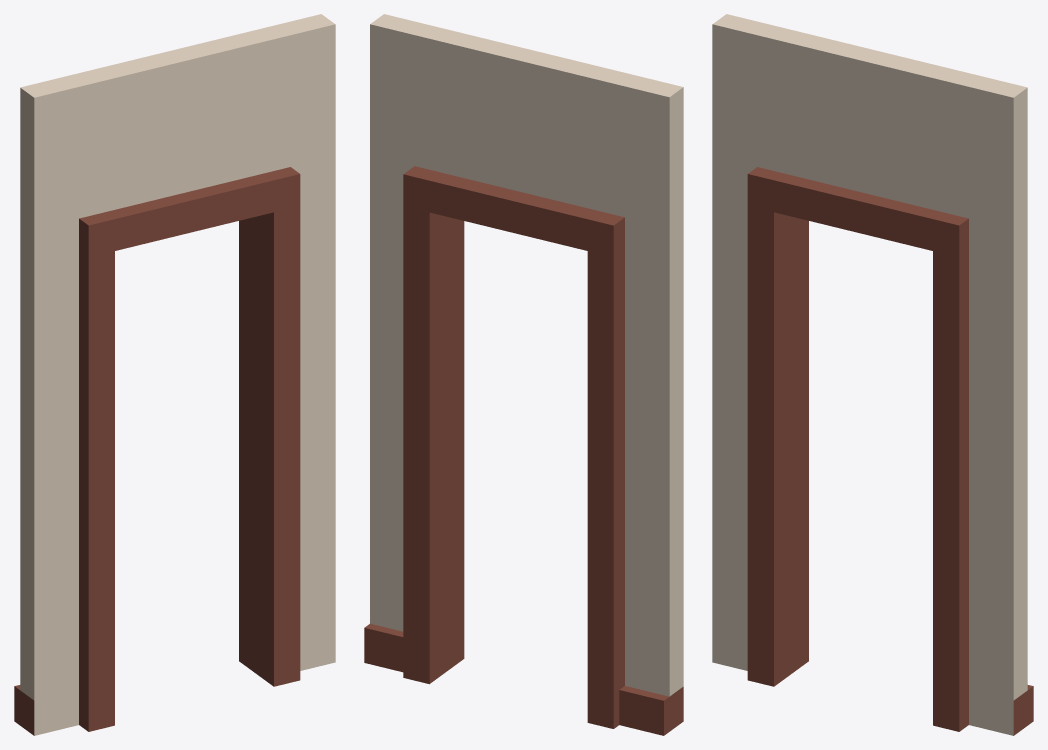
Rendered from Doorway.fbx.
The picture shows the model from 3 angles, left to right: view 1: azimuth 30°, elevation 25°; view 2: azimuth 150°, elevation 25°; view 3: azimuth 330°, elevation 25°; orthographic projection.
Parts seen in each view (by area): view 1: Wall_door; view 2: Wall_door; view 3: Wall_door.
Part boxes in pixels (box(x1,y1,x2,y2)): Wall_door: box(14, 14, 335, 735); Wall_door: box(364, 14, 683, 735); Wall_door: box(712, 14, 1033, 735).
Bounding box in the file's own units: 309 × 62.08 × 625.
